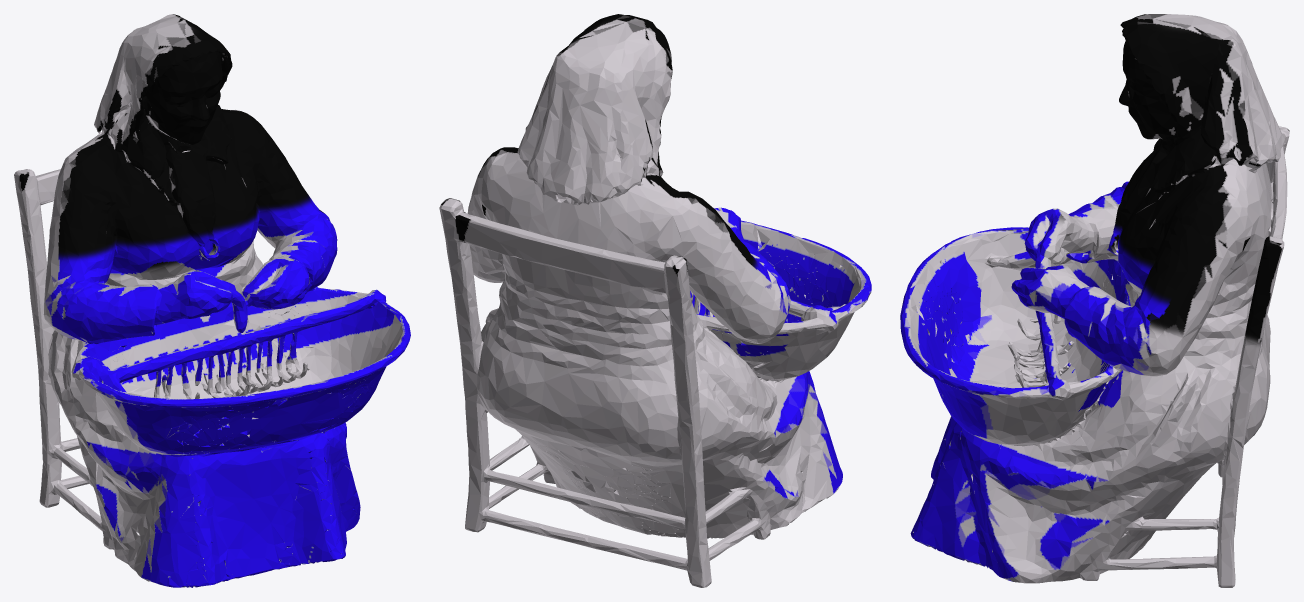
Rendered from Gerda.glb.
The picture shows the model from 3 angles, left to right: view 1: azimuth 30°, elevation 25°; view 2: azimuth 150°, elevation 25°; view 3: azimuth 270°, elevation 25°; orthographic projection. The views are drawn at different scales.
Visible parts, largest first — view 1: Magnificent Densor-Tumelo; view 2: Magnificent Densor-Tumelo; view 3: Magnificent Densor-Tumelo.
Part boxes in pixels (<box>): Magnificent Densor-Tumelo: <box>14,14,410,587</box>; Magnificent Densor-Tumelo: <box>439,14,871,587</box>; Magnificent Densor-Tumelo: <box>900,14,1289,587</box>.
Bounding box in the file's own units: 1.36 × 1.96 × 1.35.
1 material, 1 textured.
